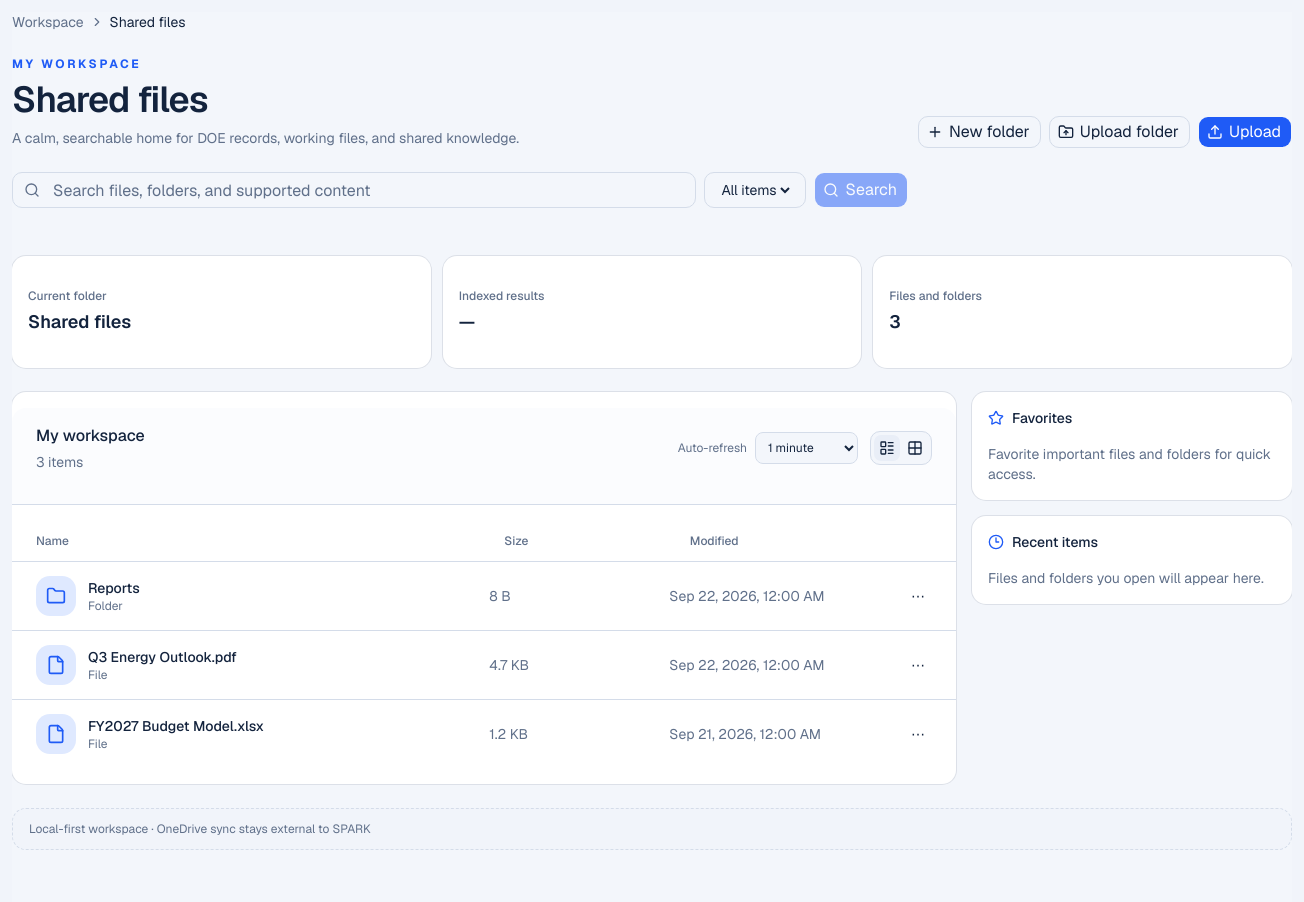
Scenario: FileWorkspace › shows search errors and retries the same query
Type "brief" into the search field named "Search workspace" at (354, 190), box [12,172,696,208]
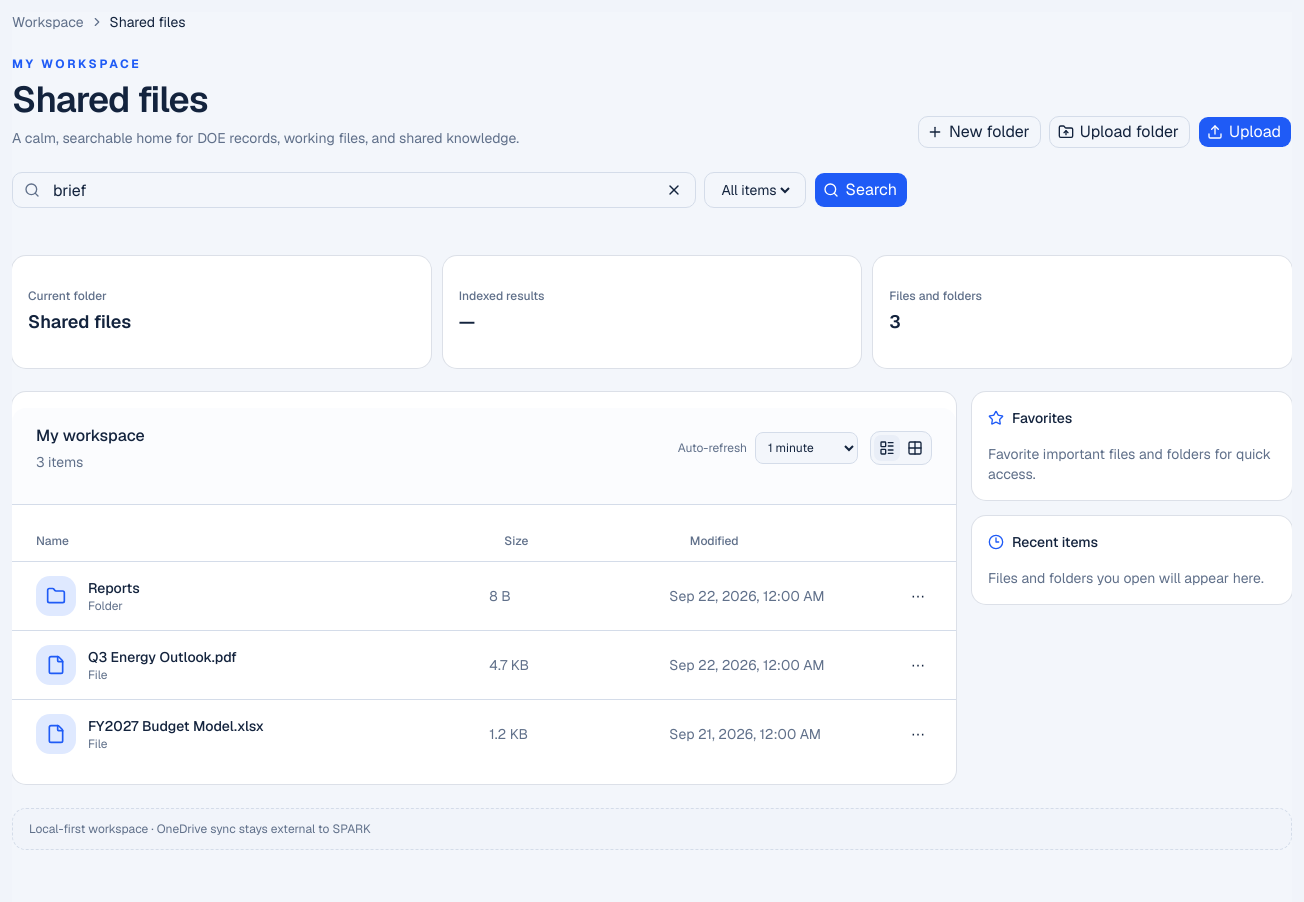
Press Enter in the search field named "Search workspace", box [12,172,696,208]
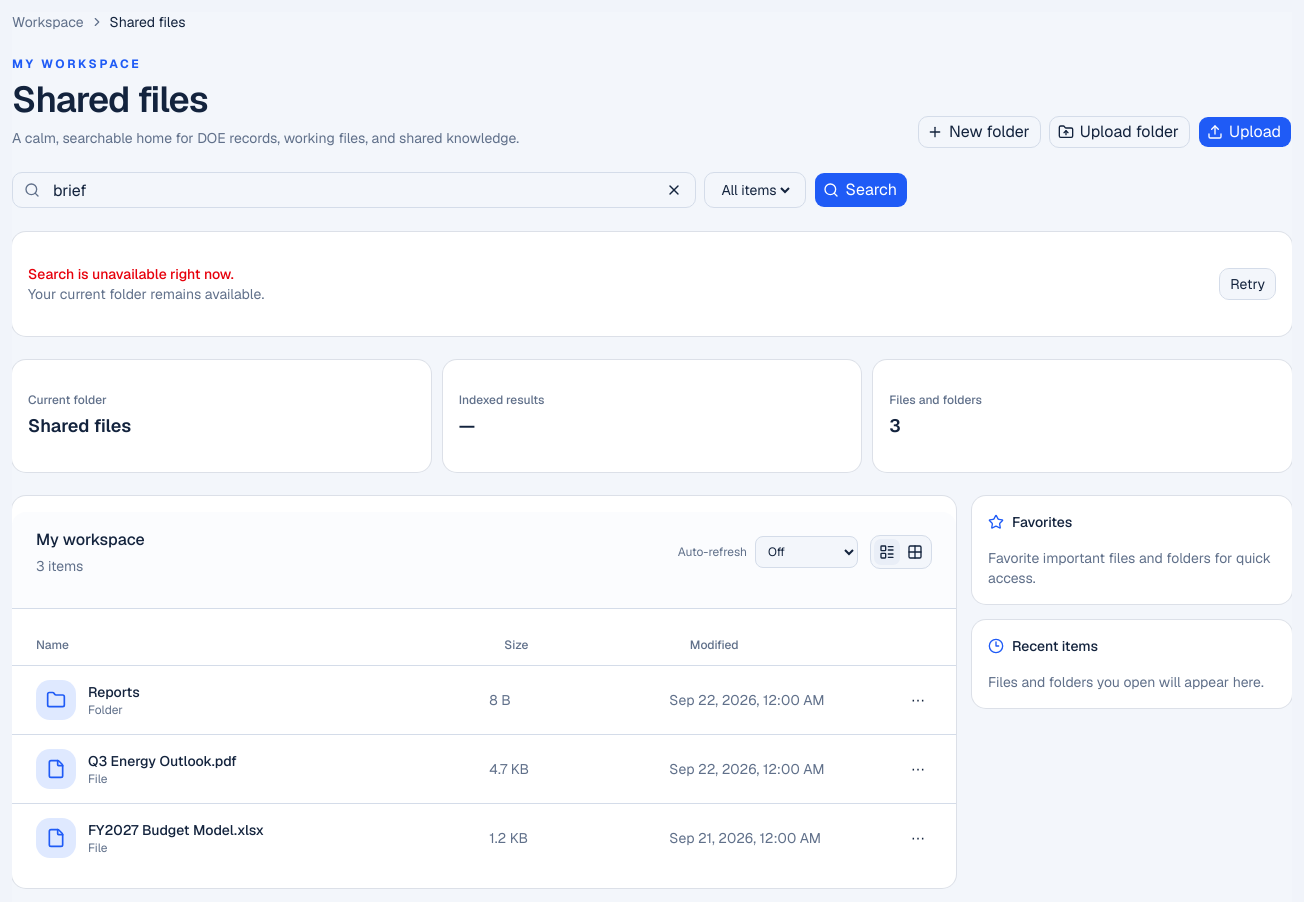
Expected: the text "Search is unavailable right now." is shown, [28,264,264,284]
Click the button with aria-label "Retry search" at (1248, 284), box [1219,268,1276,300]
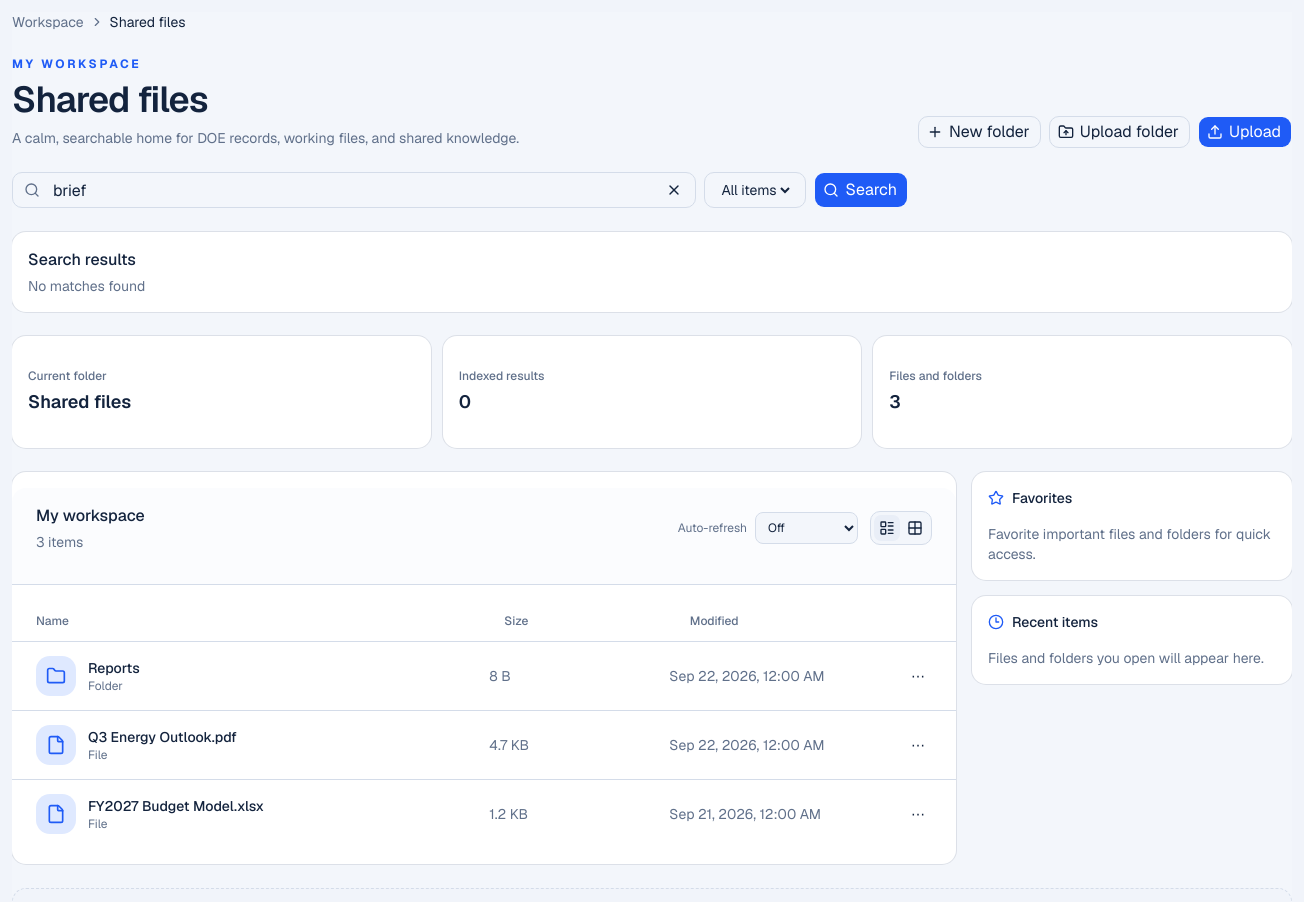
Expected: the text "No matches found" is shown, [28,277,145,295]
